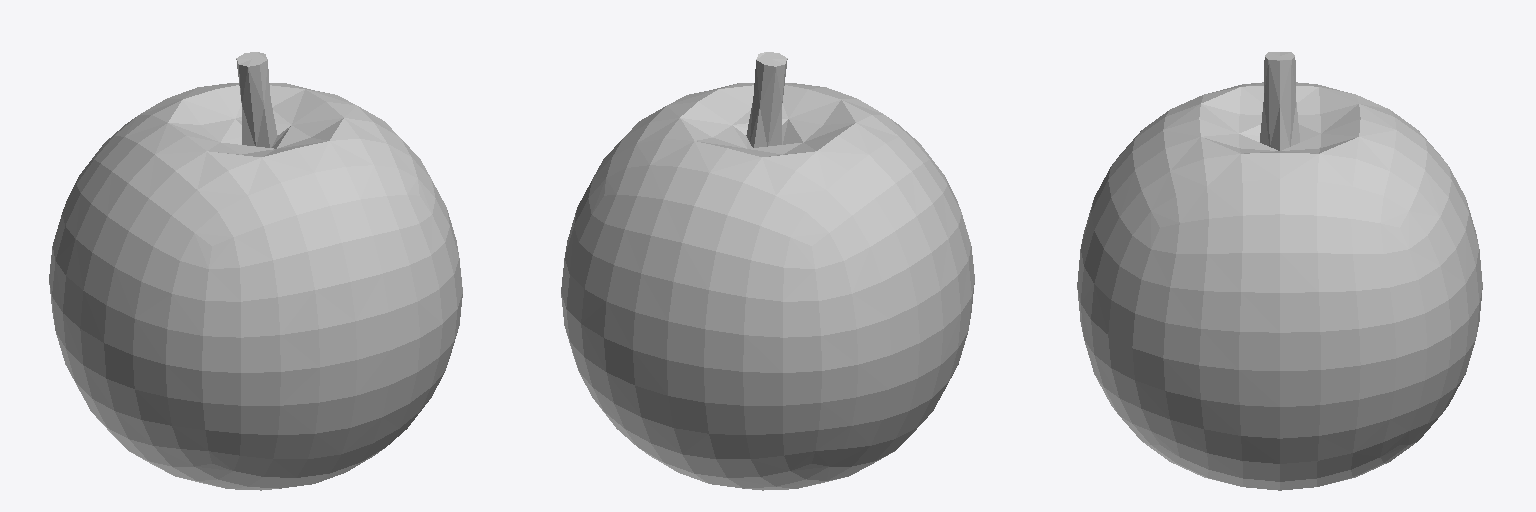
File: Apple.obj
The picture shows the model from 3 angles: view 1: azimuth 30°, elevation 25°; view 2: azimuth 150°, elevation 25°; view 3: azimuth 270°, elevation 25°; orthographic projection.
Parts seen in each view (by area): view 1: pCube1; view 2: pCube1; view 3: pCube1.
Boxes of the visible parts, <box> form: pCube1: <box>49,52,462,490</box>; pCube1: <box>561,52,974,490</box>; pCube1: <box>1077,52,1482,490</box>.
Size of the model in its own units: 4.25 by 4.62 by 4.25.